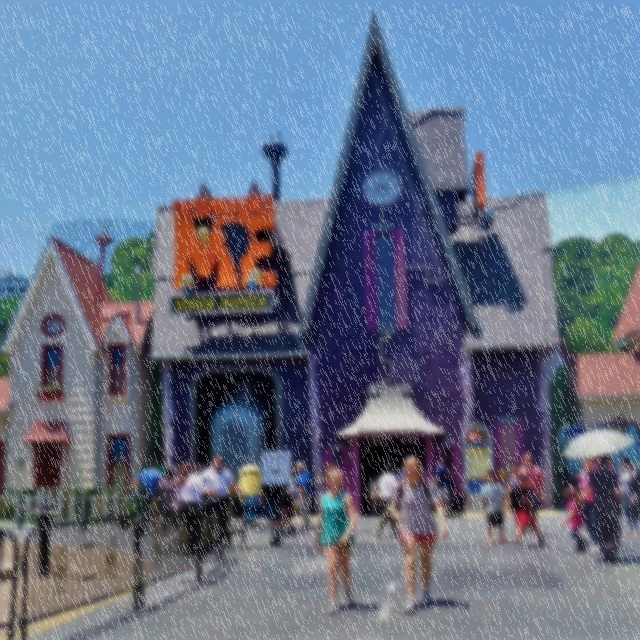pessoa: (386, 453, 449, 614), (312, 462, 358, 616), (198, 454, 248, 550), (178, 459, 224, 557), (586, 453, 625, 563), (502, 472, 548, 550), (226, 455, 272, 528), (125, 460, 164, 536), (368, 461, 399, 539), (517, 453, 545, 537), (478, 470, 508, 546), (164, 463, 188, 554), (616, 454, 639, 536), (563, 486, 590, 552), (504, 462, 528, 534), (292, 459, 314, 530), (578, 458, 595, 547), (258, 485, 286, 538), (158, 466, 179, 532), (432, 456, 452, 519), (274, 484, 297, 536), (436, 458, 452, 514), (628, 472, 640, 520), (174, 533, 194, 555), (370, 474, 378, 516), (396, 464, 406, 482), (197, 463, 208, 476), (286, 506, 294, 520), (420, 468, 428, 478), (580, 458, 584, 474), (591, 462, 599, 469), (574, 474, 583, 478), (377, 502, 380, 512), (608, 466, 614, 470)
